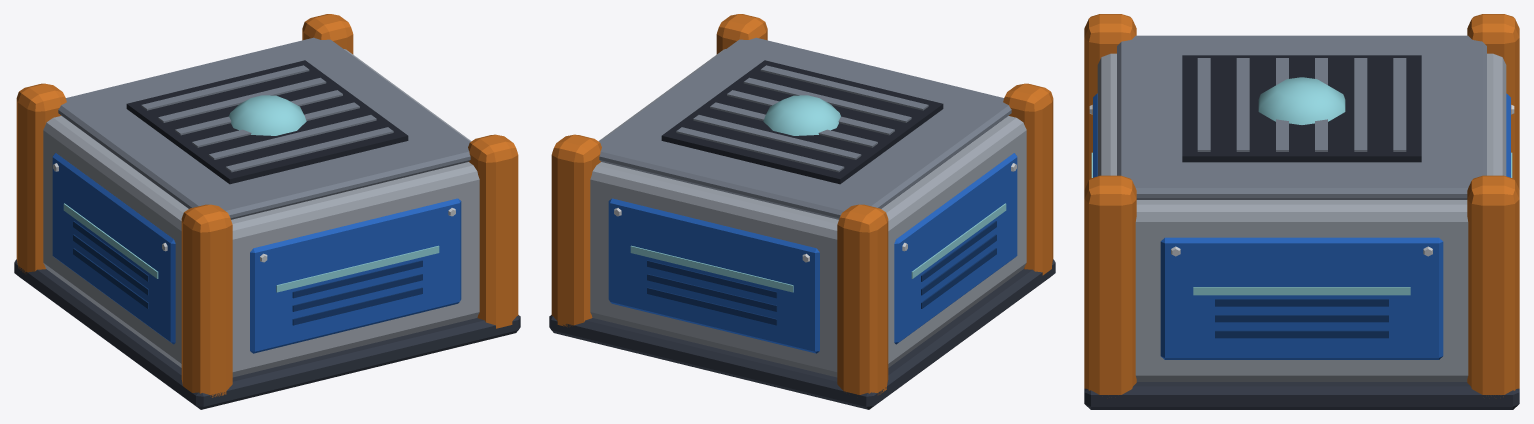
File: space-block.glb
3 views of the same model, side by side, from view 1: azimuth 30°, elevation 25°; view 2: azimuth 150°, elevation 25°; view 3: azimuth 270°, elevation 25° (orthographic). The views are drawn at different scales.
Visible parts, largest first — view 1: space-block; view 2: space-block; view 3: space-block.
Part boxes in pixels (<box>): space-block: <box>14,14,520,409</box>; space-block: <box>549,14,1055,409</box>; space-block: <box>1084,14,1519,409</box>.
Size of the model in its own units: 2 by 1.2 by 2.
